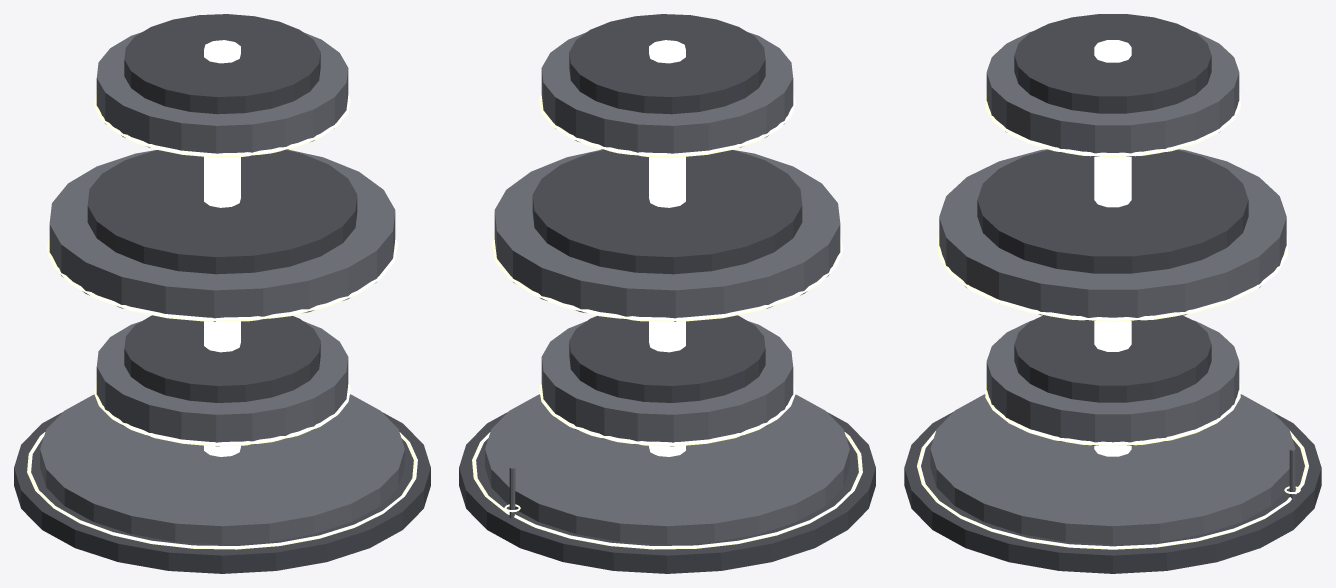
The model's file is zone_high_5_t1.glb.
3 renders of one model, left to right at view 1: azimuth 30°, elevation 25°; view 2: azimuth 150°, elevation 25°; view 3: azimuth 270°, elevation 25°, orthographic.
Parts seen in each view (by area): view 1: zone_high_5_t1; view 2: zone_high_5_t1; view 3: zone_high_5_t1.
Part boxes in pixels (left/top/right/bottom): zone_high_5_t1: left=14, top=14, right=430, bottom=573; zone_high_5_t1: left=459, top=14, right=875, bottom=573; zone_high_5_t1: left=904, top=14, right=1321, bottom=573.
Size of the model in its own units: 28.8 by 33.38 by 28.8.
